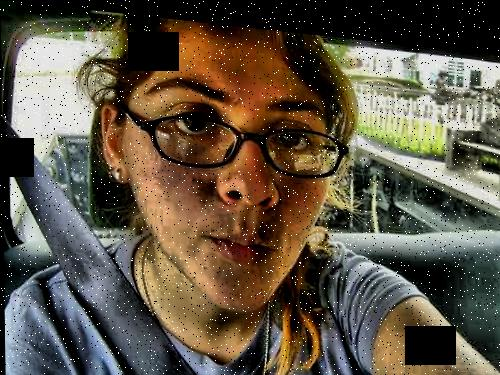seatbelt: (9, 114, 171, 359)
